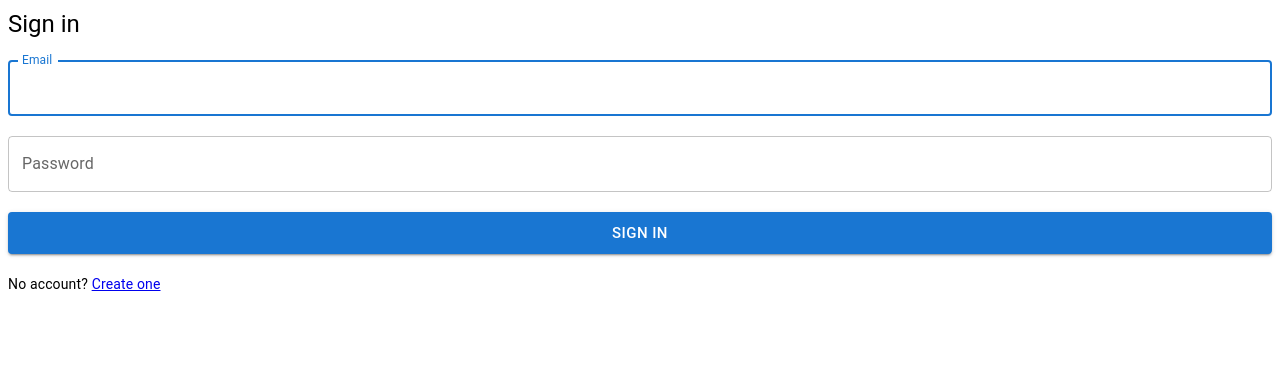
Scenario: LoginForm › shows an indistinguishable message on 401 - no account enumeration
In the field labelled "Email": (640, 88) [8,60,1272,116], type "ada@example.com"
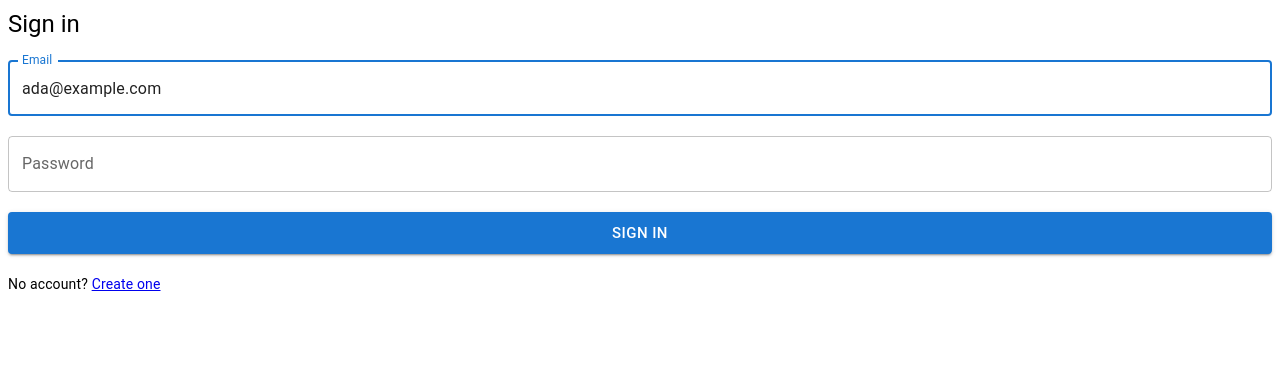
In the password field labelled "Password": (640, 164) [8,136,1272,192], type "wrong"
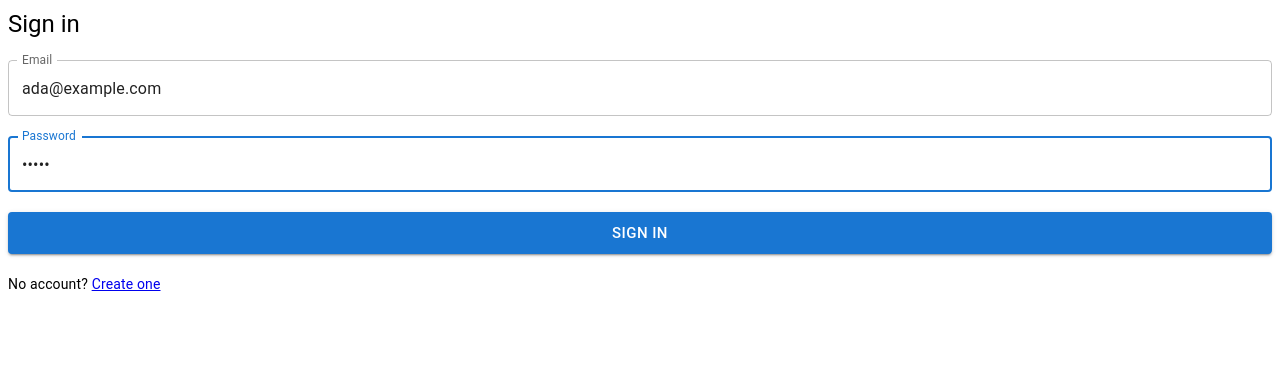
Click the button "Sign in": (640, 233) [8,212,1272,254]
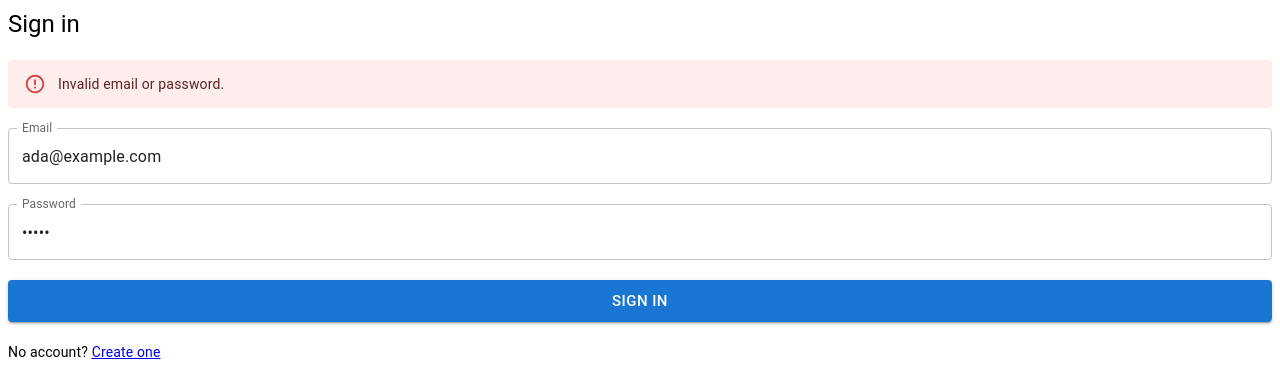
Expected: the message does not show "no account", [8,60,1272,108]
Expected: the message shows "Invalid email or password", [58,76,224,92]
